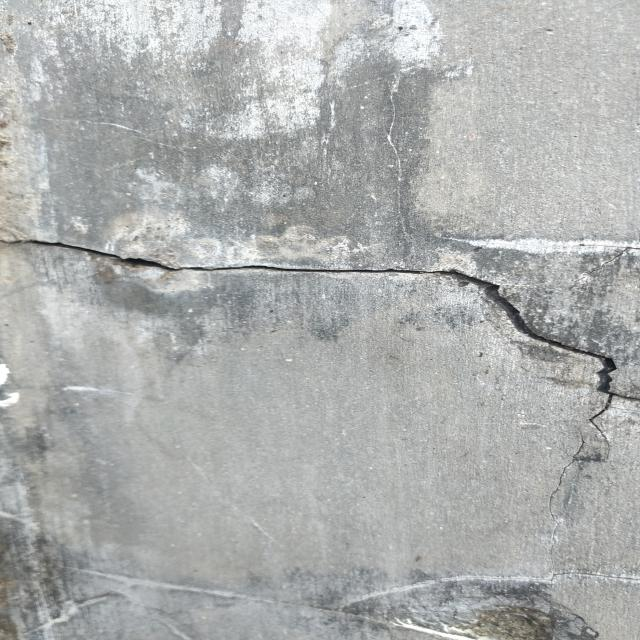Crack: (5, 230, 602, 380)
